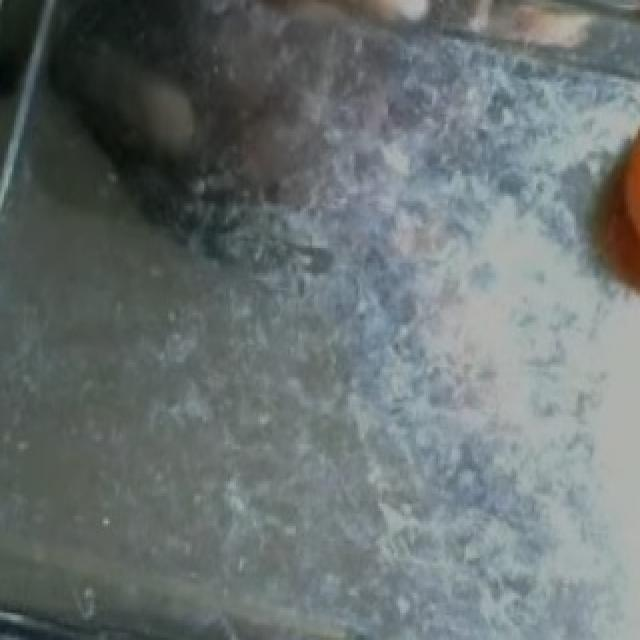Fruit: (574, 94, 640, 330)
